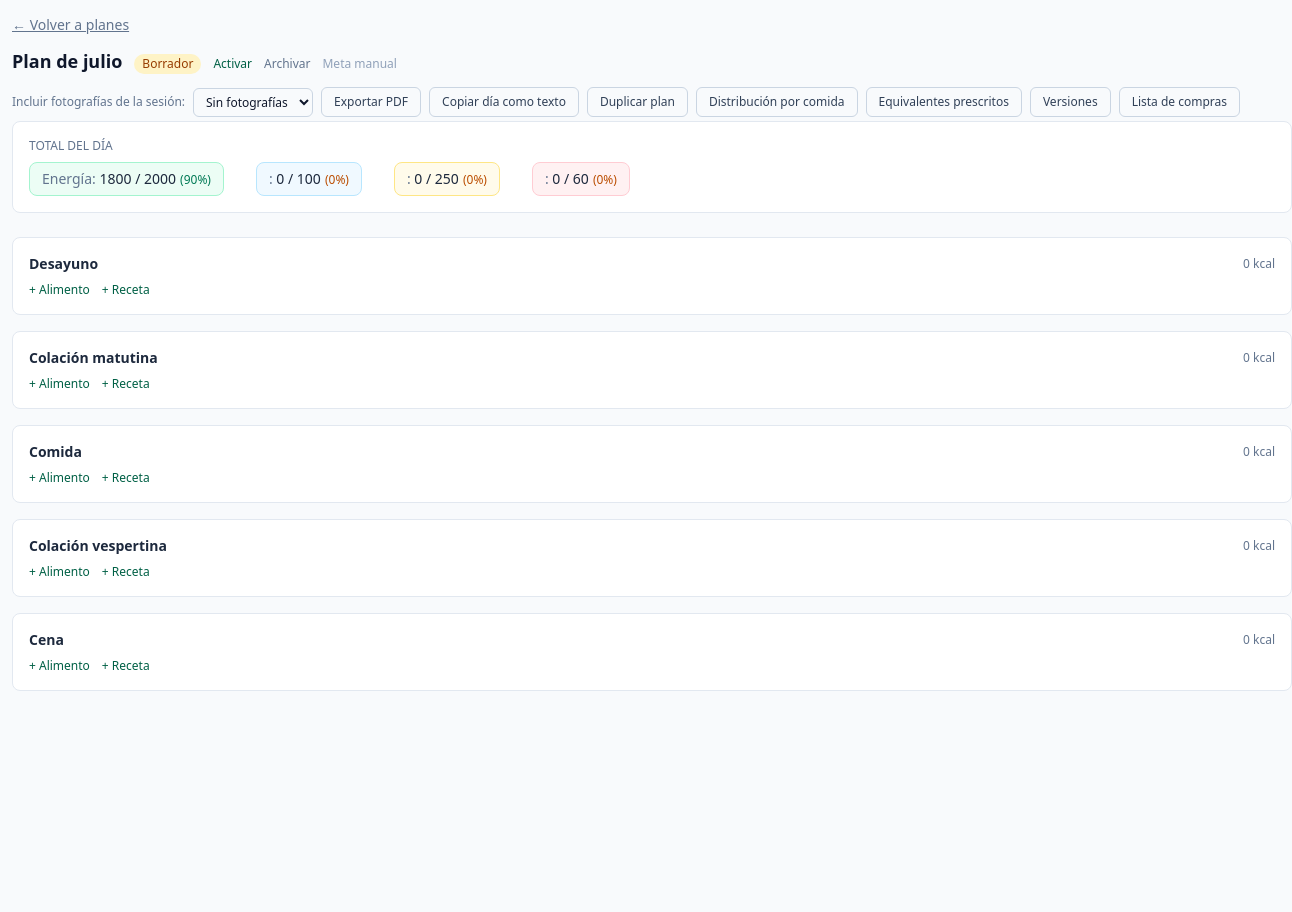
Scenario: PlanEditor — adding a food › shows the gram equivalent of the chosen measure while typing
Click the button "+ Alimento" below "Desayuno" at coordinates (59, 290), box [29,282,90,298]
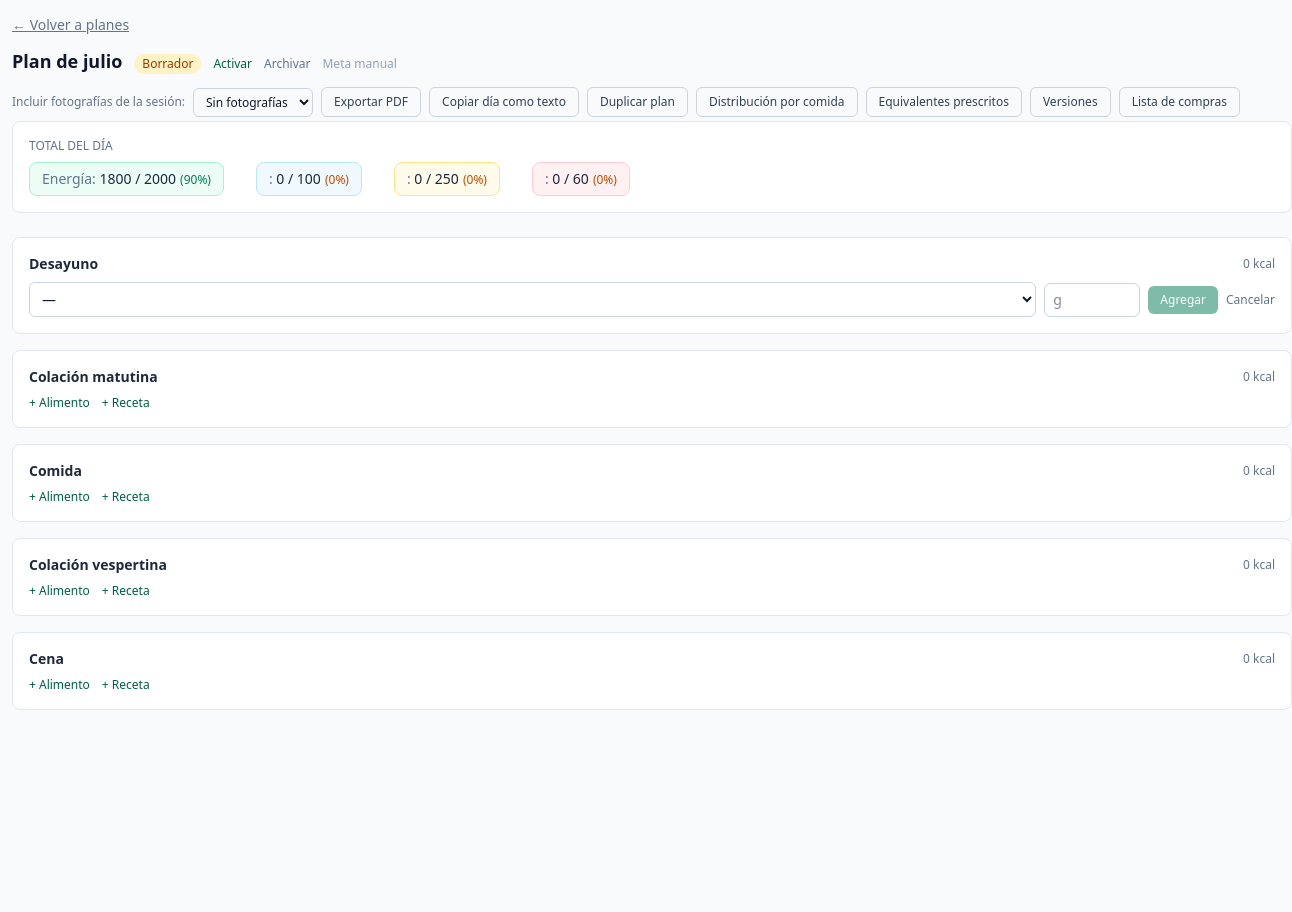
Select "Tortilla de maíz" in the dropdown named "Alimentos" at coordinates (533, 300), box [29,282,1036,317]
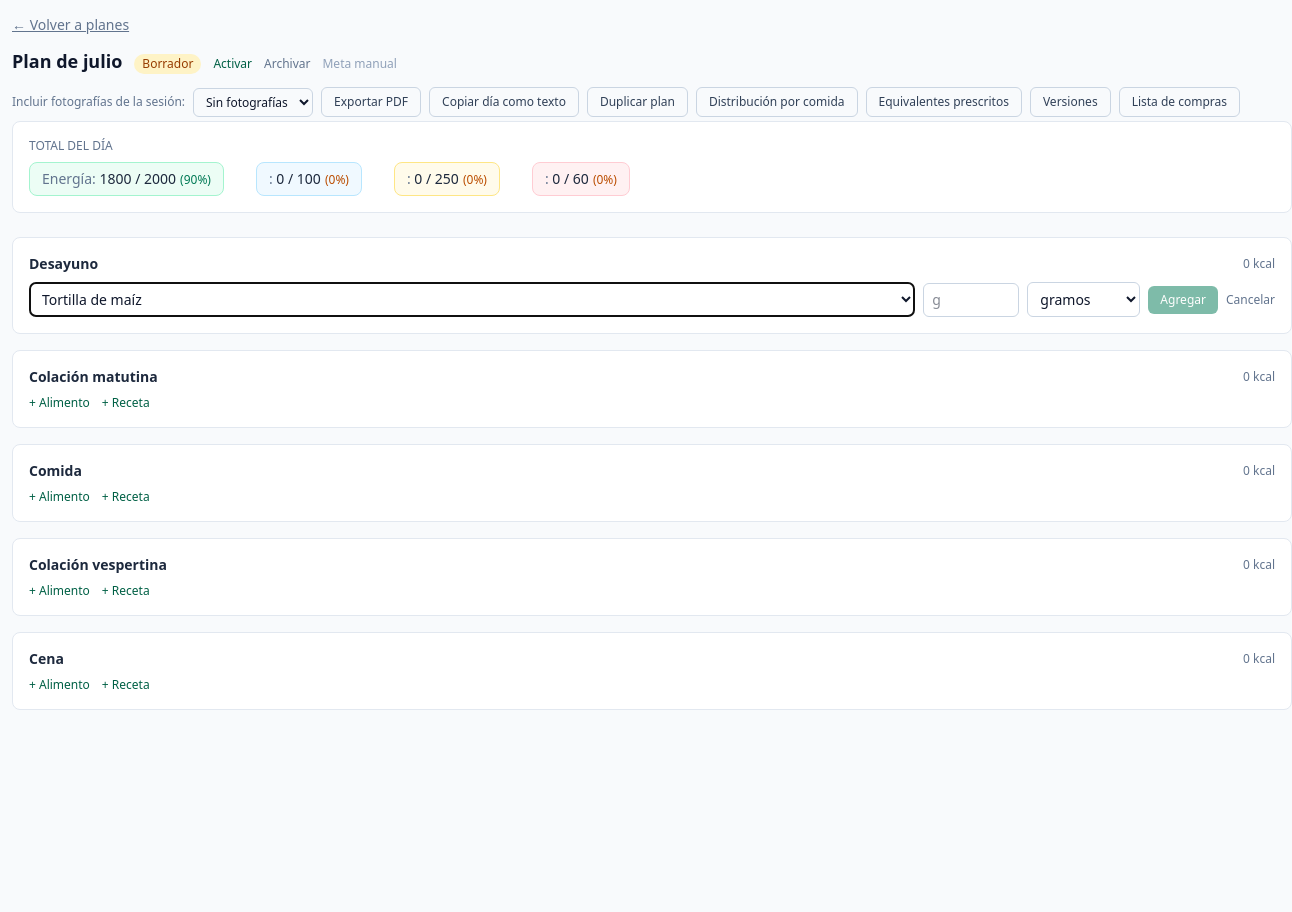
Type "2" into the field labelled "g" at coordinates (971, 300), box [923,282,1019,316]
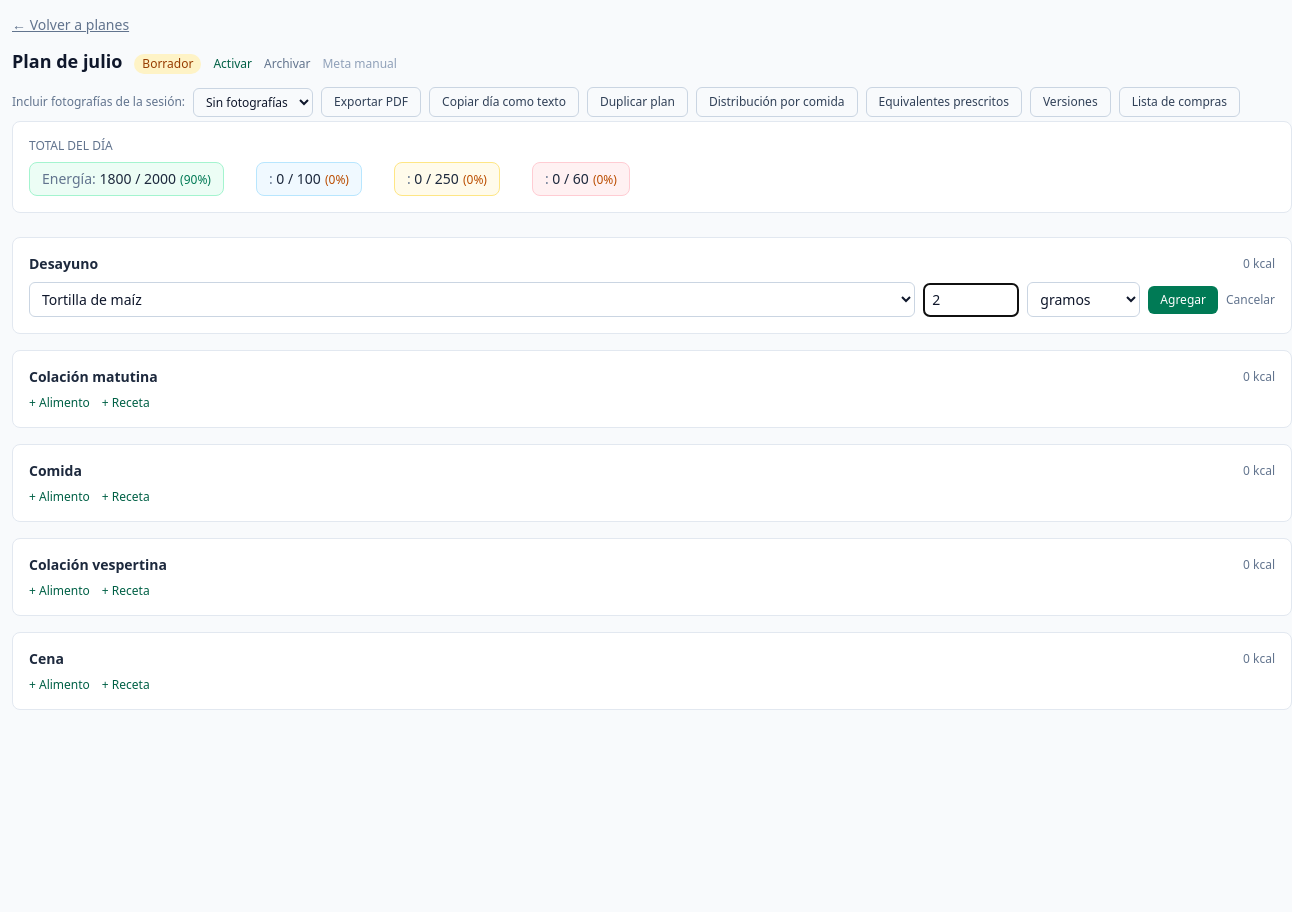
Select "pieza (30 g)" in the dropdown named "Unidad" at coordinates (1084, 300), box [1027,282,1140,317]
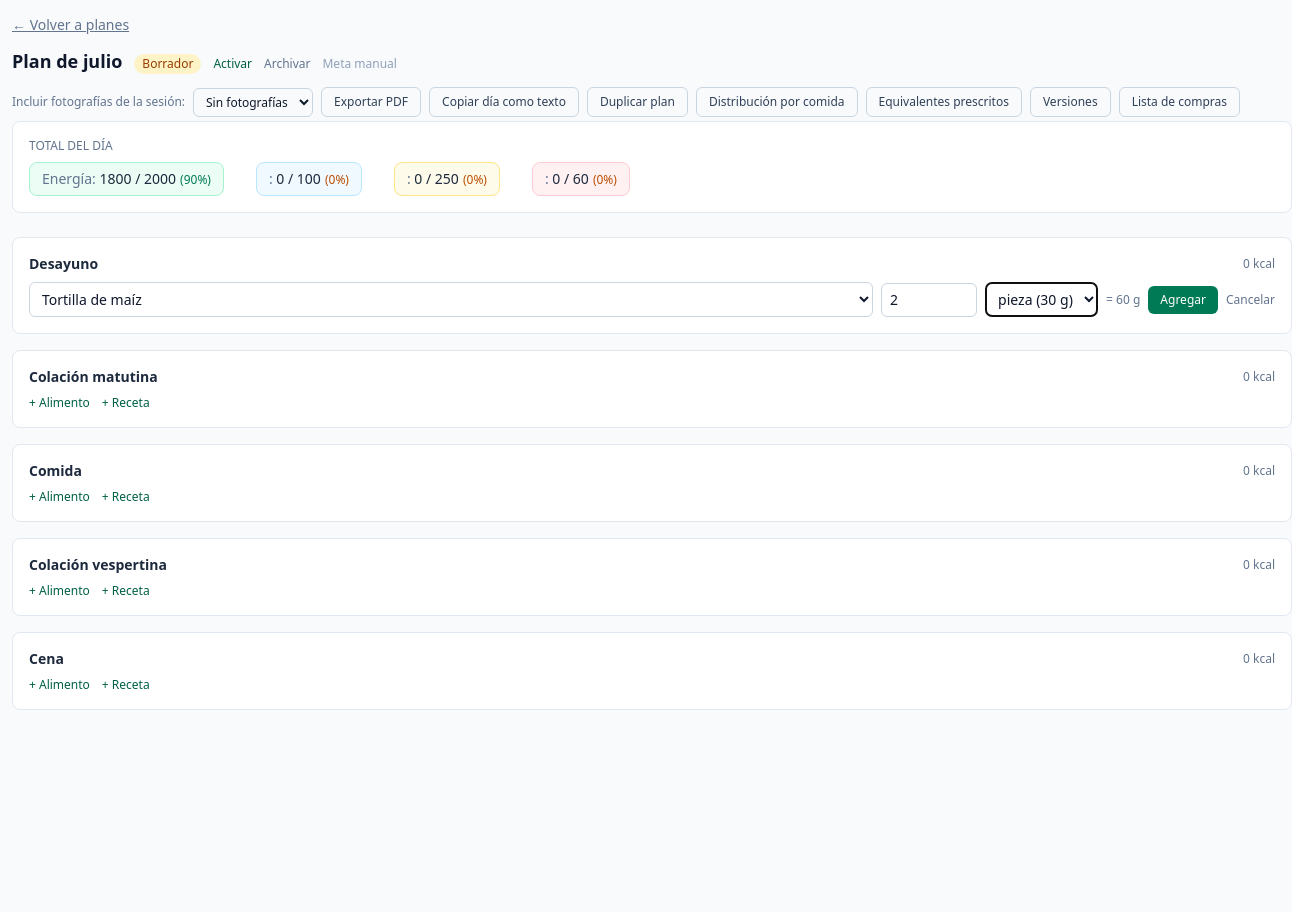
Result: the text "= 60 g" is shown at [1106,292,1140,308]
